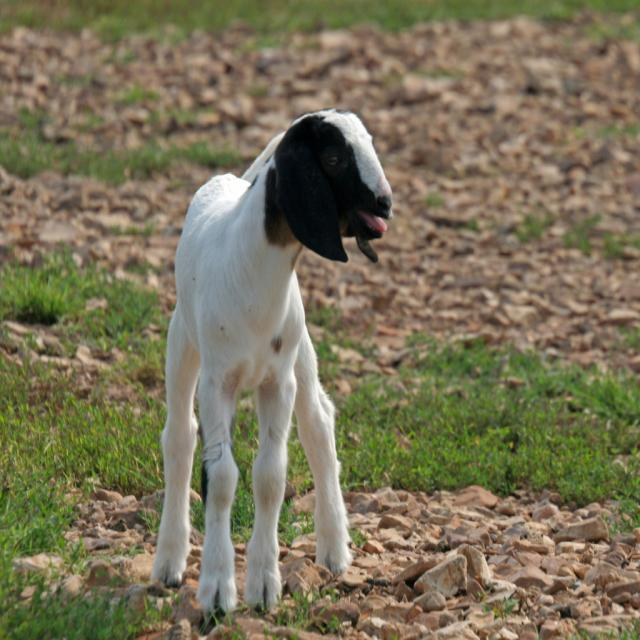Goat: (148, 99, 385, 640)
